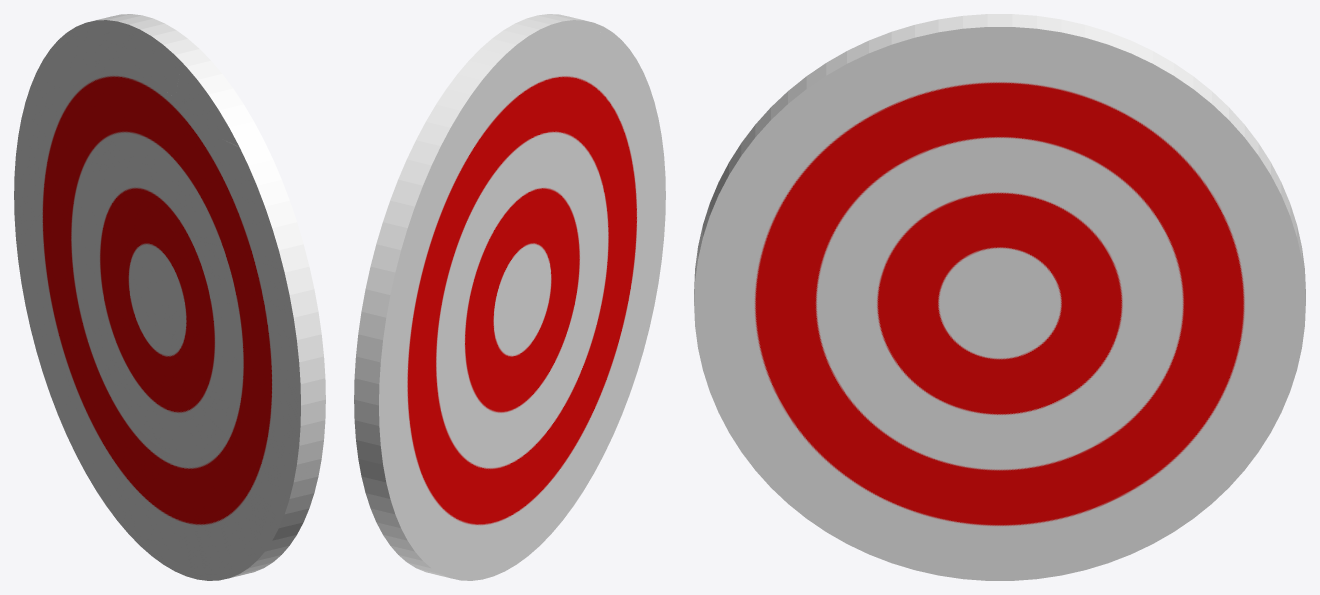
The model's file is Target.fbx.
The picture shows the model from 3 angles, left to right: view 1: azimuth 30°, elevation 25°; view 2: azimuth 150°, elevation 25°; view 3: azimuth 270°, elevation 25°; orthographic projection. The views are drawn at different scales.
Visible parts, largest first — view 1: Target, Target_cell.018, Target_cell.011, Target_cell.009, Target_cell.002, Target_cell.017, Target_cell.019, Target_cell.006, Target_cell.023, Target_cell.008, Target_cell.020, Target_cell.003 (+8 smaller); view 2: Target, Target_cell.018, Target_cell.011, Target_cell.009, Target_cell.002, Target_cell.023, Target_cell.017, Target_cell.019, Target_cell.008, Target_cell.007, Target_cell.006, Target_cell.014 (+6 smaller); view 3: Target, Target_cell.011, Target_cell.019, Target_cell.018, Target_cell.008, Target_cell.009, Target_cell.002, Target_cell.017, Target_cell.014, Target_cell.007, Target_cell.006, Target_cell.020 (+5 smaller).
Boxes of the visible parts, box(x1,y1,x2,y2) form: Target: box(14, 14, 325, 580); Target_cell.018: box(58, 47, 178, 315); Target_cell.011: box(143, 193, 310, 370); Target_cell.009: box(167, 363, 314, 567); Target_cell.002: box(14, 148, 123, 294); Target_cell.017: box(214, 344, 325, 486); Target_cell.019: box(48, 294, 150, 420); Target_cell.006: box(175, 407, 261, 580); Target_cell.023: box(17, 255, 109, 360); Target_cell.008: box(114, 347, 175, 570); Target_cell.020: box(252, 256, 323, 383); Target_cell.003: box(53, 401, 124, 477); Target: box(354, 14, 665, 579); Target_cell.018: box(422, 76, 542, 340); Target_cell.011: box(508, 57, 643, 351); Target_cell.009: box(530, 289, 657, 440); Target_cell.002: box(354, 278, 488, 457); Target_cell.023: box(357, 367, 473, 533); Target_cell.017: box(579, 176, 665, 289); Target_cell.019: box(378, 338, 518, 564); Target_cell.008: box(479, 351, 539, 579); Target_cell.007: box(355, 210, 436, 374); Target_cell.006: box(540, 381, 602, 535); Target_cell.014: box(542, 28, 634, 142); Target: box(694, 14, 1305, 580); Target_cell.011: box(727, 120, 1013, 361); Target_cell.019: box(1020, 318, 1254, 523); Target_cell.018: box(954, 60, 1208, 322); Target_cell.008: box(955, 371, 1089, 580); Target_cell.009: box(718, 342, 968, 522); Target_cell.002: box(1082, 240, 1305, 360); Target_cell.017: box(694, 257, 882, 402); Target_cell.014: box(770, 49, 959, 148); Target_cell.007: box(1166, 127, 1304, 280); Target_cell.006: box(834, 490, 954, 577); Target_cell.020: box(695, 148, 765, 266).
Size of the model in its own units: 100 by 99.92 by 5.
